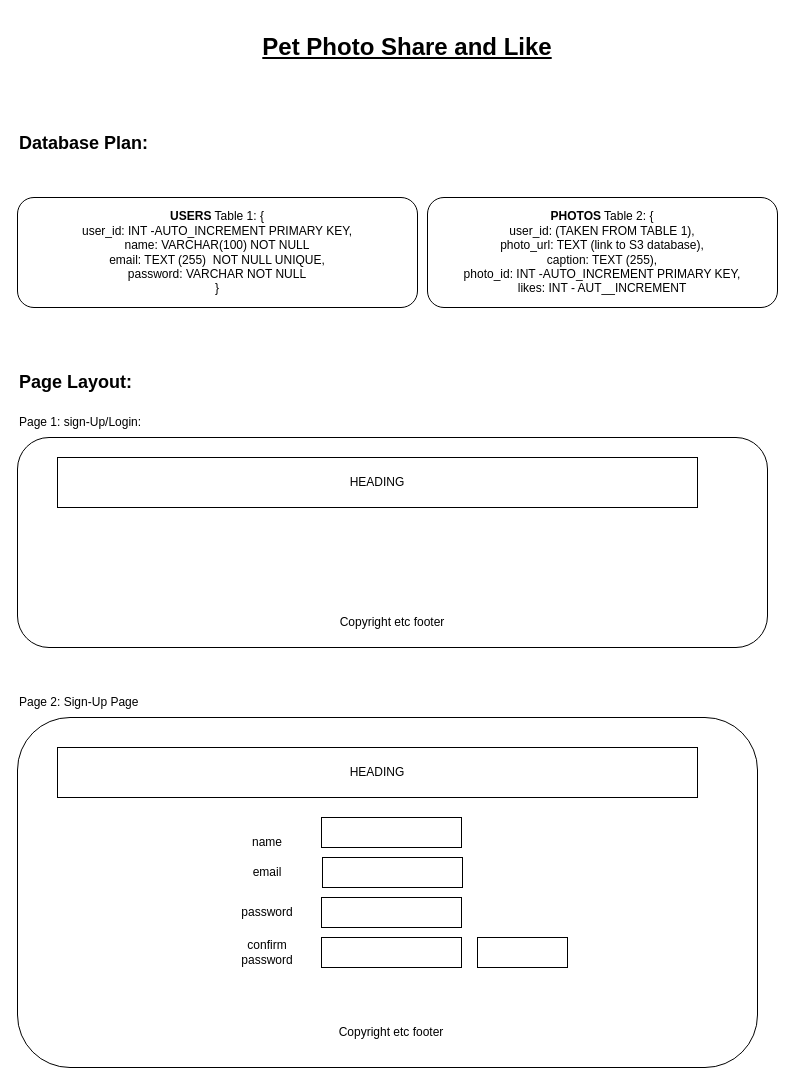
This 805x1085 diagram has some shape labels left out. The box of each missing label's shape, as (x1, y1, x2, y2) in pixels:
Sign-Up / Log - In: (16, 436, 768, 648)
SUBMIT: (476, 936, 568, 968)
